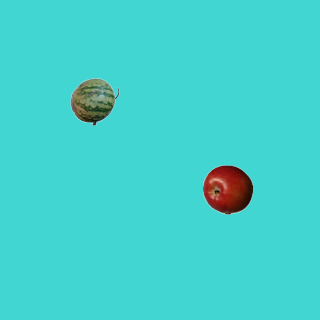Apple Braeburn: (202, 164, 252, 214)
Watermelon: (69, 76, 119, 126)
